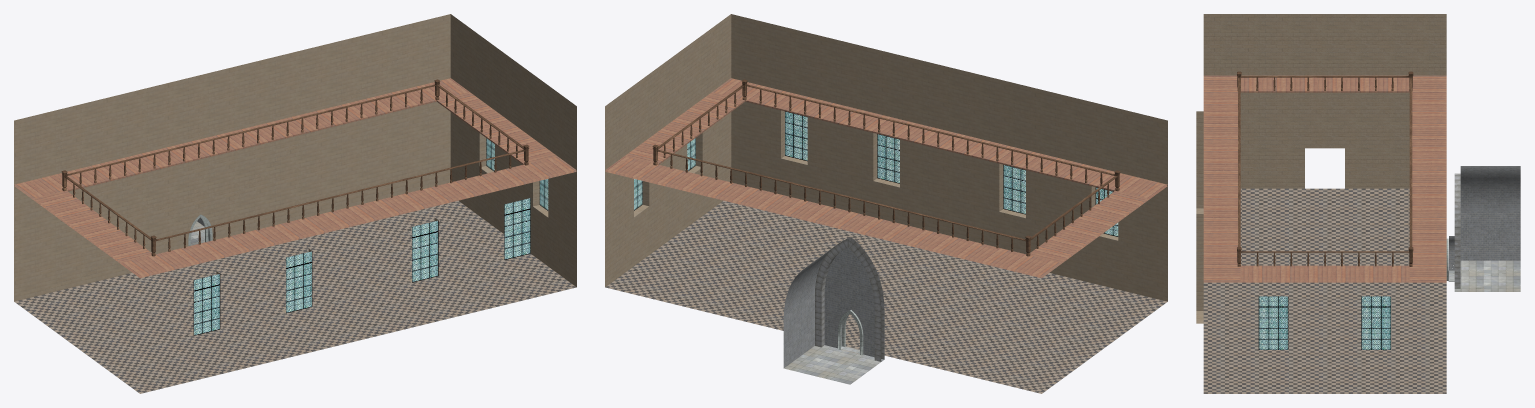
The model's file is shell.glb.
The picture shows the model from 3 angles, left to right: view 1: azimuth 30°, elevation 25°; view 2: azimuth 150°, elevation 25°; view 3: azimuth 270°, elevation 25°; orthographic projection. The views are drawn at different scales.
Parts seen in each view (by area): view 1: biblioteca_pared_0, biblioteca_suelo_suelo_0, biblioteca_suelo_volante_madera_0, biblioteca_ventana_0, biblioteca_barandilla001_barandilla_0, biblioteca_barandilla_barandilla_0; view 2: biblioteca_pared_0, biblioteca_suelo_suelo_0, biblioteca_suelo_volante_madera_0, biblioteca_pared2_0, biblioteca_ventana_0, biblioteca_remates_0, biblioteca_barandilla_barandilla_0, biblioteca_barandilla001_barandilla_0, biblioteca_suelo2_0; view 3: biblioteca_suelo_suelo_0, biblioteca_pared_0, biblioteca_suelo_volante_madera_0, biblioteca_pared2_0, biblioteca_ventana_0, biblioteca_suelo2_0, biblioteca_barandilla_barandilla_0, biblioteca_barandilla001_barandilla_0, biblioteca_remates_0.
Part boxes in pixels (left/top/right/bottom): biblioteca_pared_0: left=14, top=14, right=576, bottom=335; biblioteca_suelo_suelo_0: left=14, top=200, right=576, bottom=393; biblioteca_suelo_volante_madera_0: left=14, top=78, right=576, bottom=278; biblioteca_ventana_0: left=193, top=138, right=548, bottom=335; biblioteca_barandilla001_barandilla_0: left=151, top=85, right=529, bottom=256; biblioteca_barandilla_barandilla_0: left=61, top=79, right=440, bottom=248; biblioteca_pared_0: left=605, top=14, right=1167, bottom=301; biblioteca_suelo_suelo_0: left=605, top=200, right=1167, bottom=393; biblioteca_suelo_volante_madera_0: left=605, top=78, right=1167, bottom=278; biblioteca_pared2_0: left=783, top=247, right=874, bottom=367; biblioteca_ventana_0: left=634, top=111, right=1118, bottom=236; biblioteca_remates_0: left=815, top=237, right=884, bottom=361; biblioteca_barandilla_barandilla_0: left=652, top=144, right=1117, bottom=256; biblioteca_barandilla001_barandilla_0: left=658, top=79, right=1120, bottom=191; biblioteca_suelo2_0: left=784, top=345, right=883, bottom=384; biblioteca_suelo_suelo_0: left=1203, top=188, right=1446, bottom=393; biblioteca_pared_0: left=1196, top=14, right=1446, bottom=323; biblioteca_suelo_volante_madera_0: left=1203, top=75, right=1446, bottom=282; biblioteca_pared2_0: left=1449, top=166, right=1520, bottom=270; biblioteca_ventana_0: left=1258, top=296, right=1390, bottom=349; biblioteca_suelo2_0: left=1448, top=260, right=1520, bottom=291; biblioteca_barandilla_barandilla_0: left=1241, top=71, right=1413, bottom=266; biblioteca_barandilla001_barandilla_0: left=1237, top=71, right=1409, bottom=266; biblioteca_remates_0: left=1446, top=173, right=1460, bottom=288.
Bounding box in the file's own units: 33.3 × 13 × 21.9.
Materials: 9 (9 with a texture image).
